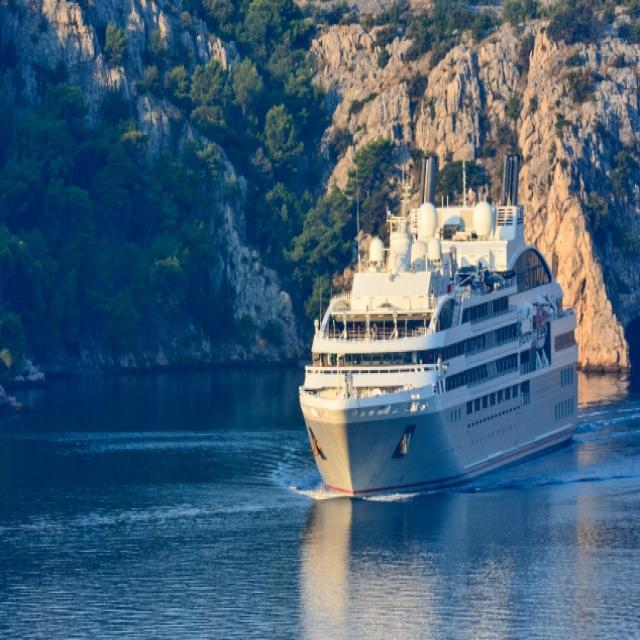cruises: (296, 148, 598, 506)
